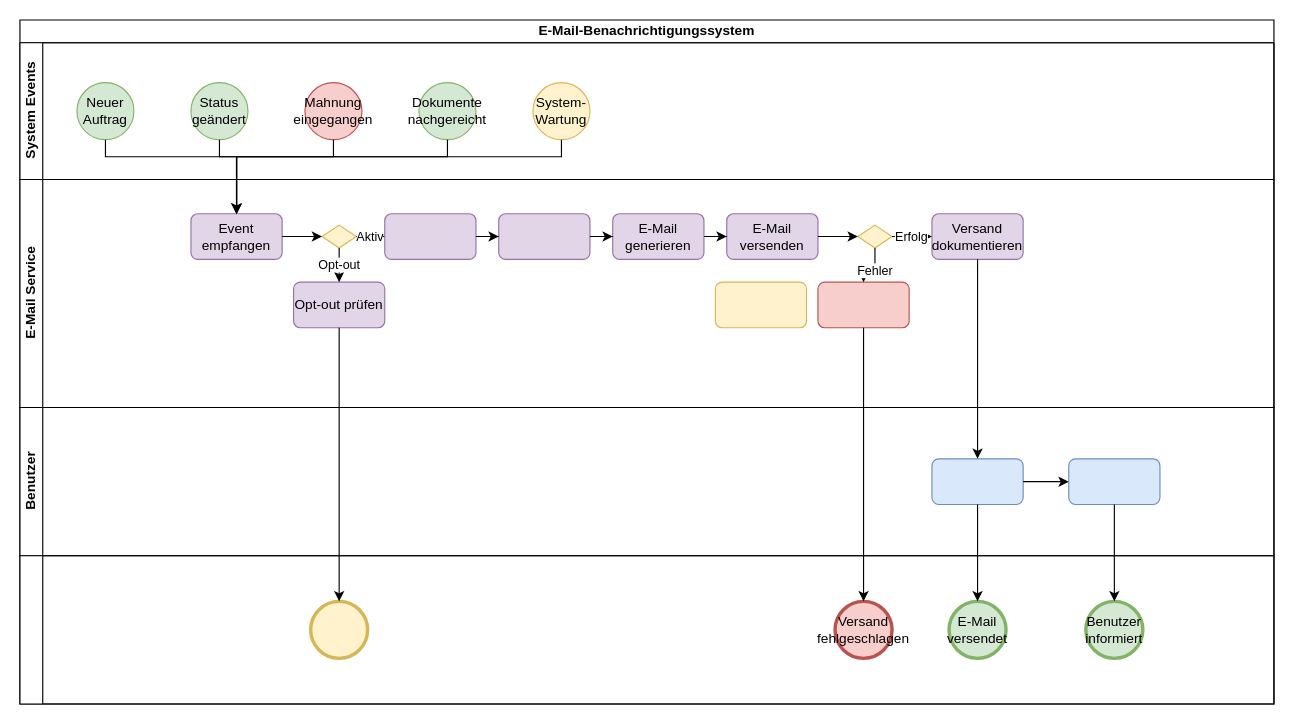
This 1294x724 diagram has some shape labels left out. The shapes that lost their labels are listed below. From the top down, each one's box as (x1, y1, x2, y2) in pixels, then its label:
(384, 213, 476, 259): Template auswählen
(498, 213, 590, 259): Empfänger ermitteln
(714, 281, 807, 328): Retry-Mechanismus
(817, 281, 909, 328): Fehler-Behandlung
(931, 458, 1023, 504): E-Mail empfangen
(1068, 458, 1160, 504): Portal aufrufen
(308, 599, 369, 659): Opt-out aktiv
(19, 555, 1274, 704): Ergebnisse
